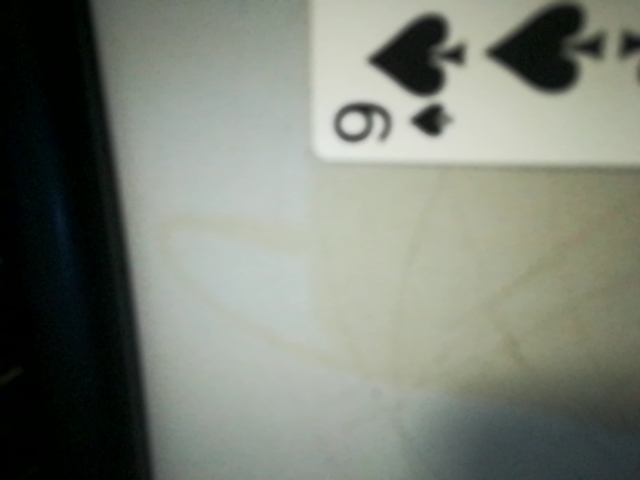ht 9: (316, 76, 472, 164)
